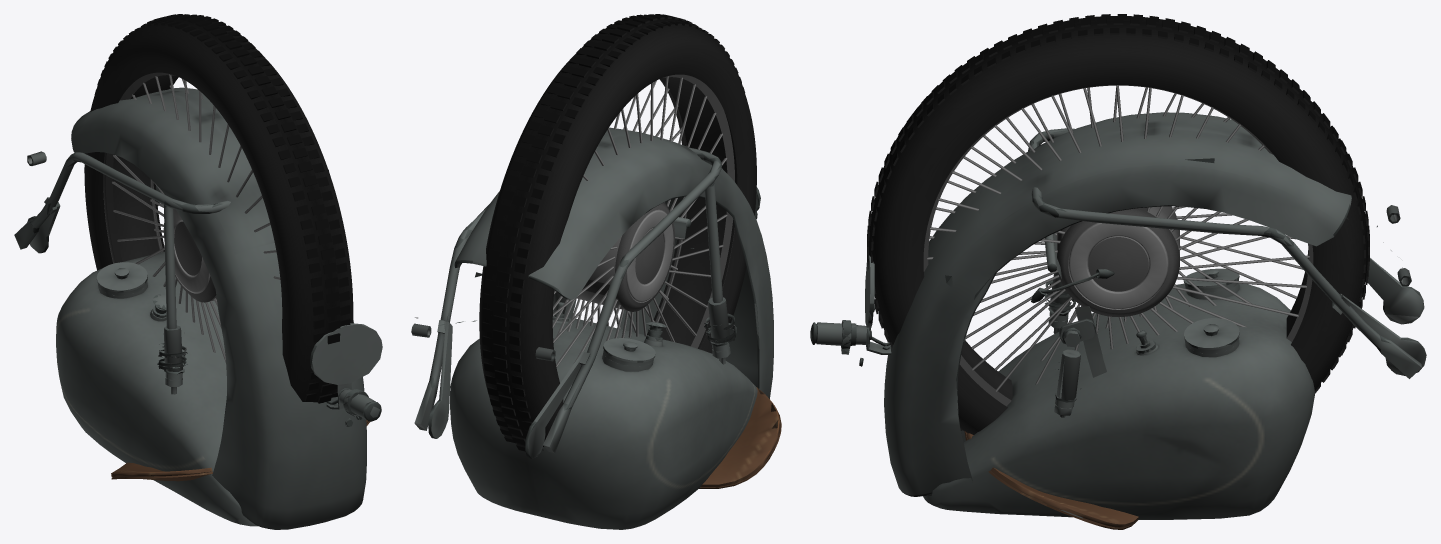
The model's file is CWSM111_Items.fbx.
3 views of the same model, side by side, from view 1: azimuth 30°, elevation 25°; view 2: azimuth 150°, elevation 25°; view 3: azimuth 270°, elevation 25° (orthographic). The views are drawn at different scales.
Visible parts, largest first — view 1: cw_WI_FenderFront, cw_WI_Tire, cw_WI_GasTank, cw_WI_FenderRear, cw_WI_Seat; view 2: cw_WI_Tire, cw_WI_GasTank, cw_WI_FenderFront, cw_WI_FenderRear, cw_WI_Seat; view 3: cw_WI_Tire, cw_WI_GasTank, cw_WI_FenderFront, cw_WI_FenderRear, cw_WI_Seat.
Part boxes in pixels (x1,y1,x2,y2): cw_WI_FenderFront: [71, 87, 366, 529]; cw_WI_Tire: [84, 14, 353, 403]; cw_WI_GasTank: [56, 251, 258, 526]; cw_WI_FenderRear: [14, 151, 382, 426]; cw_WI_Seat: [111, 420, 369, 481]; cw_WI_Tire: [479, 14, 756, 451]; cw_WI_GasTank: [450, 302, 757, 529]; cw_WI_FenderFront: [454, 127, 773, 398]; cw_WI_FenderRear: [411, 147, 760, 458]; cw_WI_Seat: [699, 387, 781, 488]; cw_WI_Tire: [867, 14, 1369, 434]; cw_WI_GasTank: [923, 268, 1315, 519]; cw_WI_FenderFront: [884, 112, 1351, 496]; cw_WI_FenderRear: [810, 128, 1426, 417]; cw_WI_Seat: [964, 431, 1138, 529].
Bounding box in the file's own units: 5.2 × 8.42 × 10.31.
